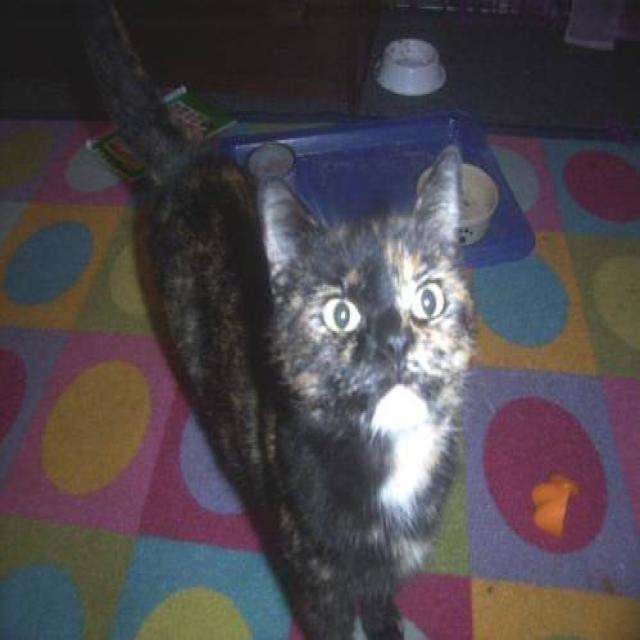cat: (69, 0, 479, 638)
